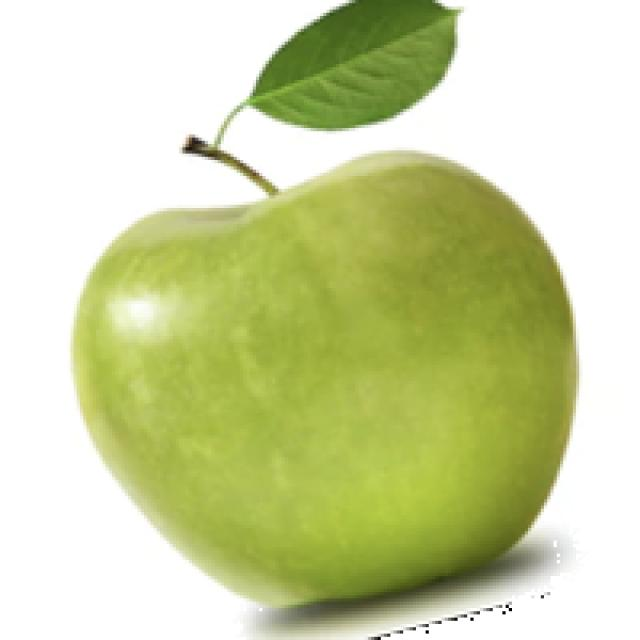apple: (64, 144, 582, 637)
